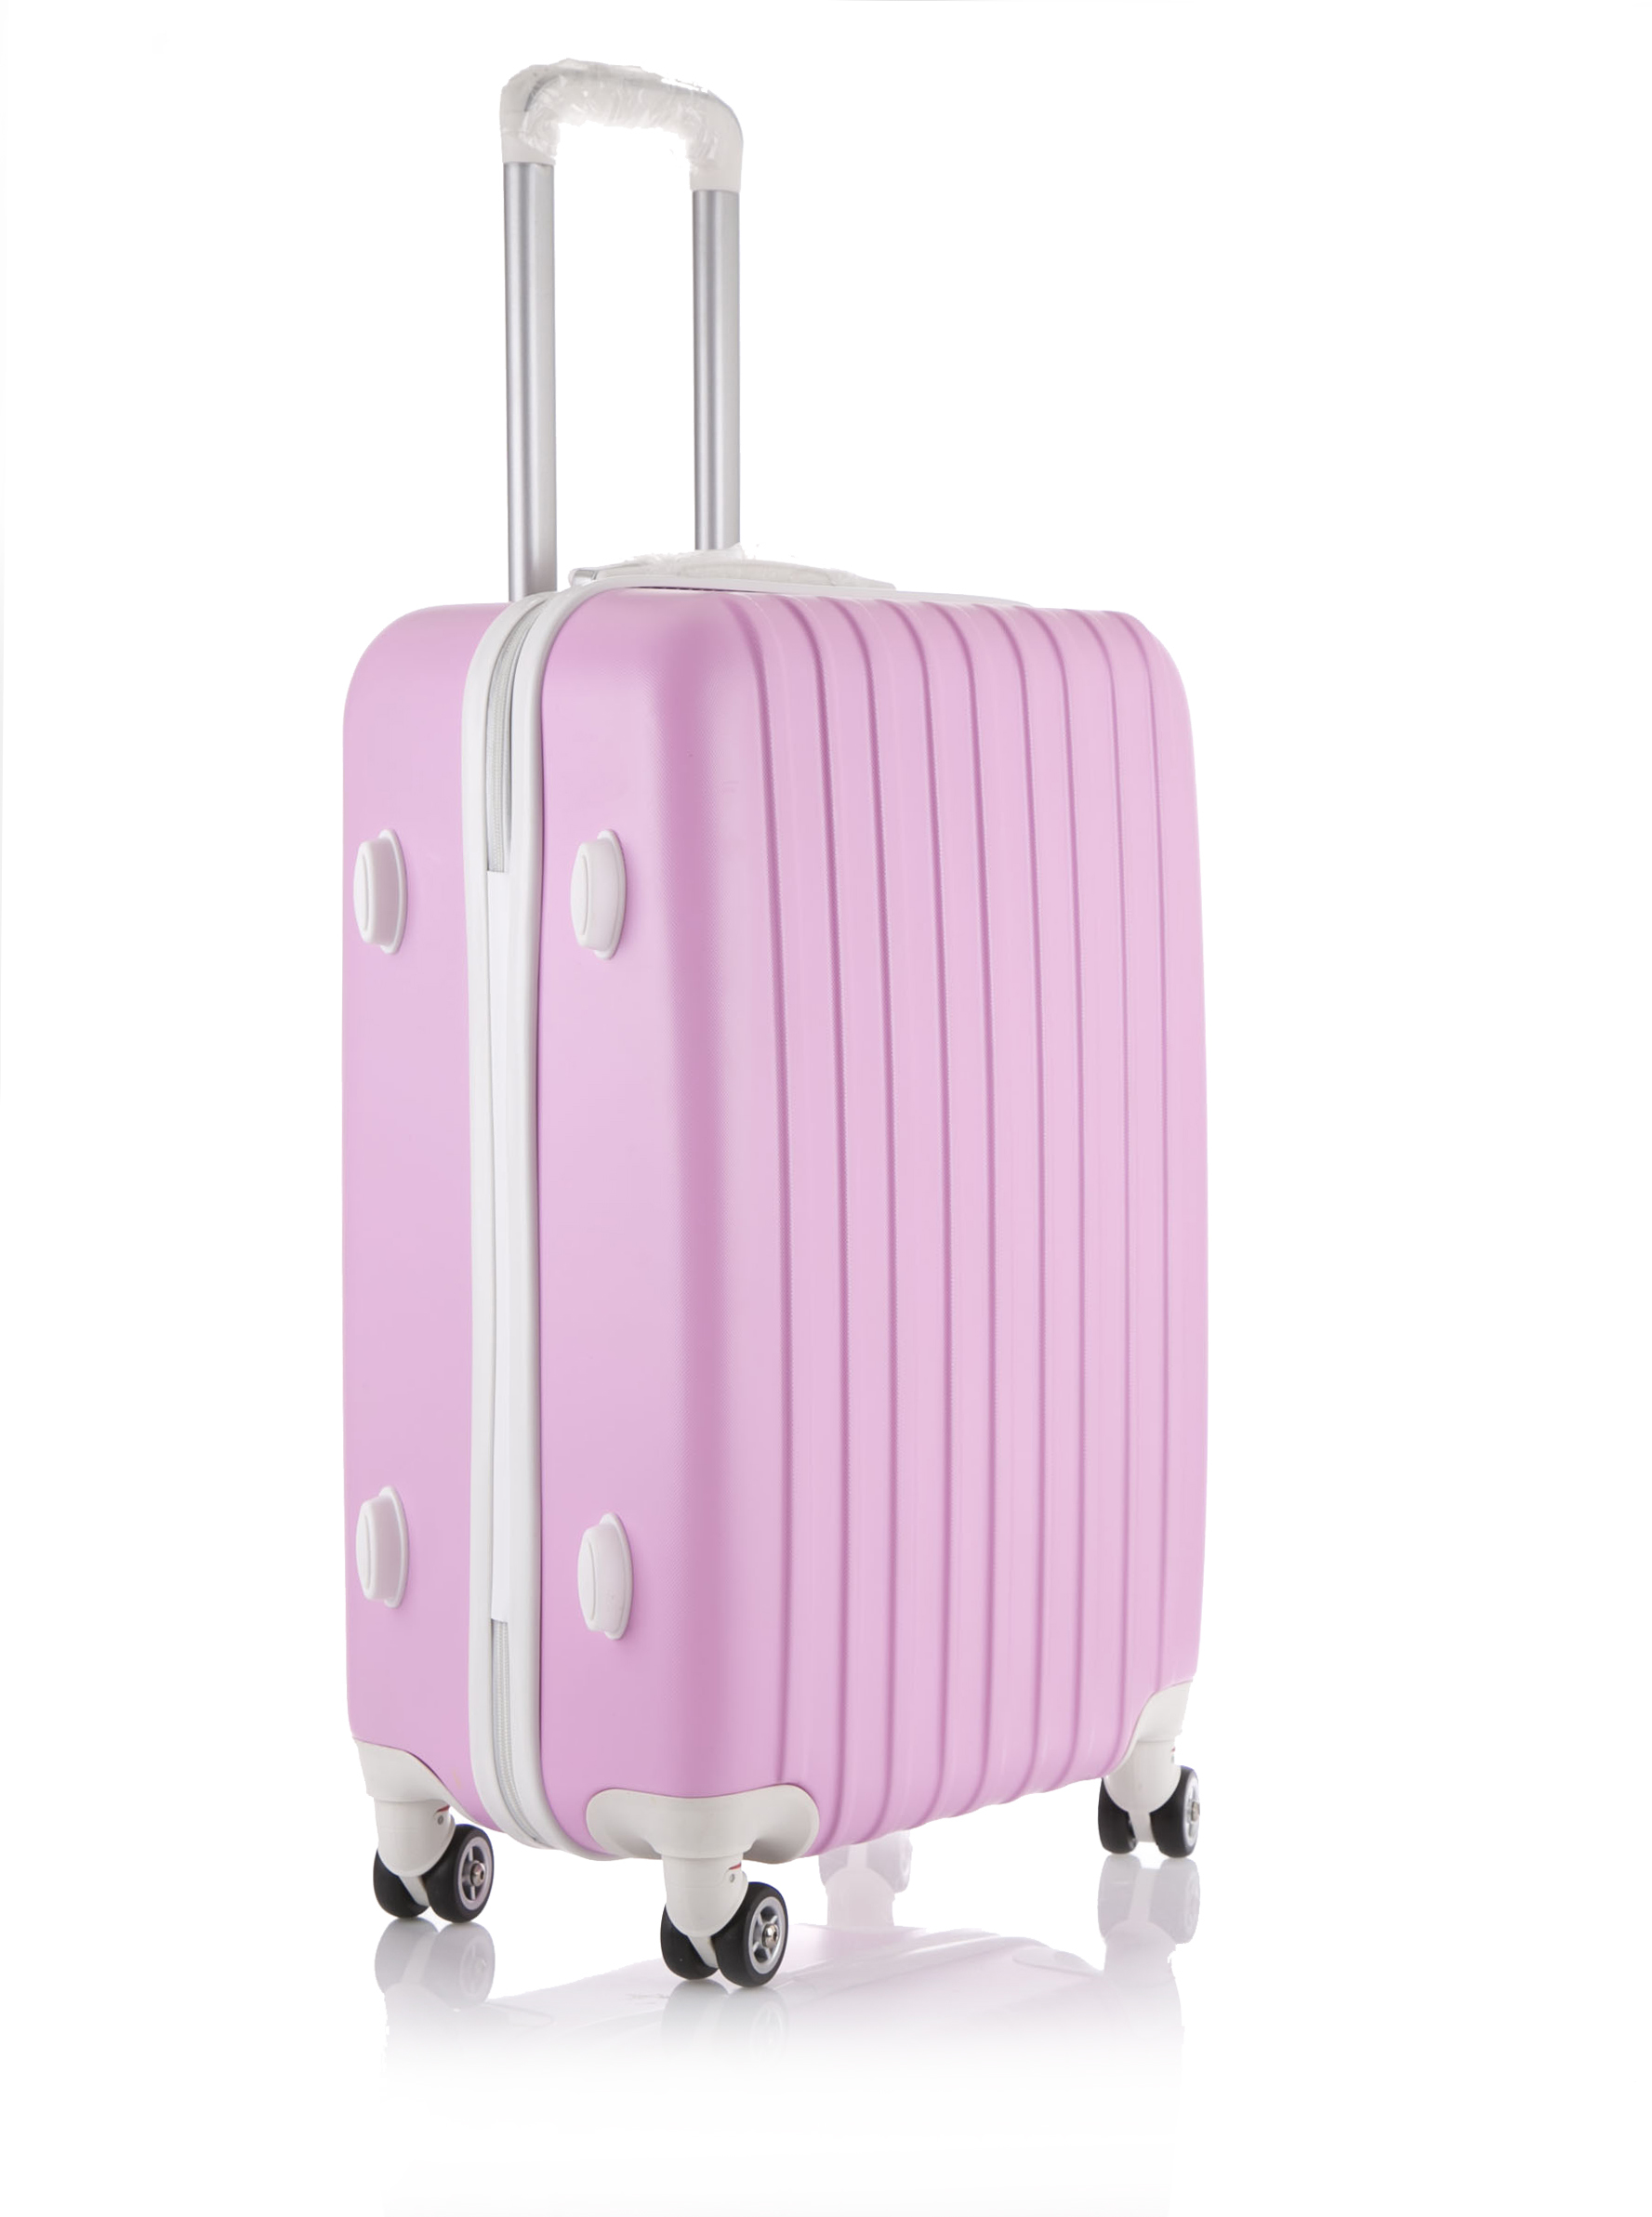luggage: (338, 64, 1218, 1988)
